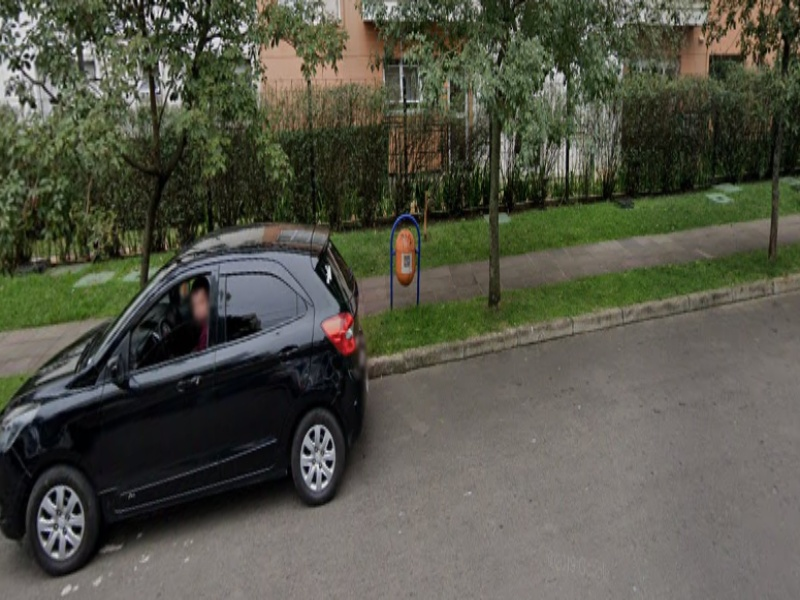v77: (378, 218, 790, 408)
